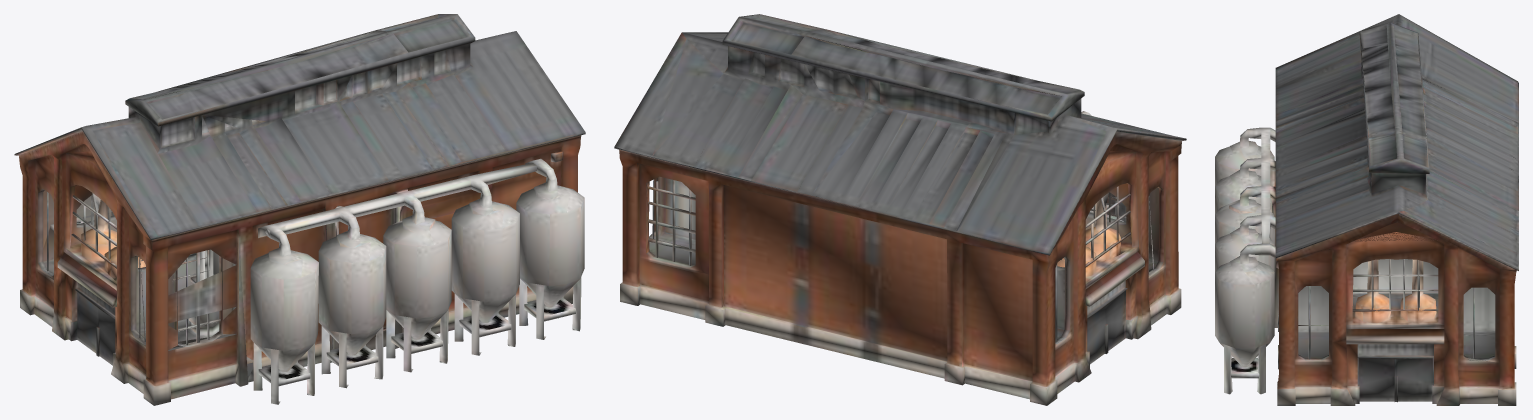
Rendered from beer.glb.
3 views of the same model, side by side, from view 1: azimuth 30°, elevation 25°; view 2: azimuth 150°, elevation 25°; view 3: azimuth 270°, elevation 25° (orthographic). The views are drawn at different scales.
Visible parts, largest first — view 1: beer; view 2: beer; view 3: beer.
Boxes of the visible parts, bbox=[...] form: beer: bbox=[14, 14, 585, 405]; beer: bbox=[614, 14, 1186, 405]; beer: bbox=[1215, 14, 1518, 405].
Size of the model in its own units: 1 by 0.5499 by 0.679.
1 material, 1 textured.
